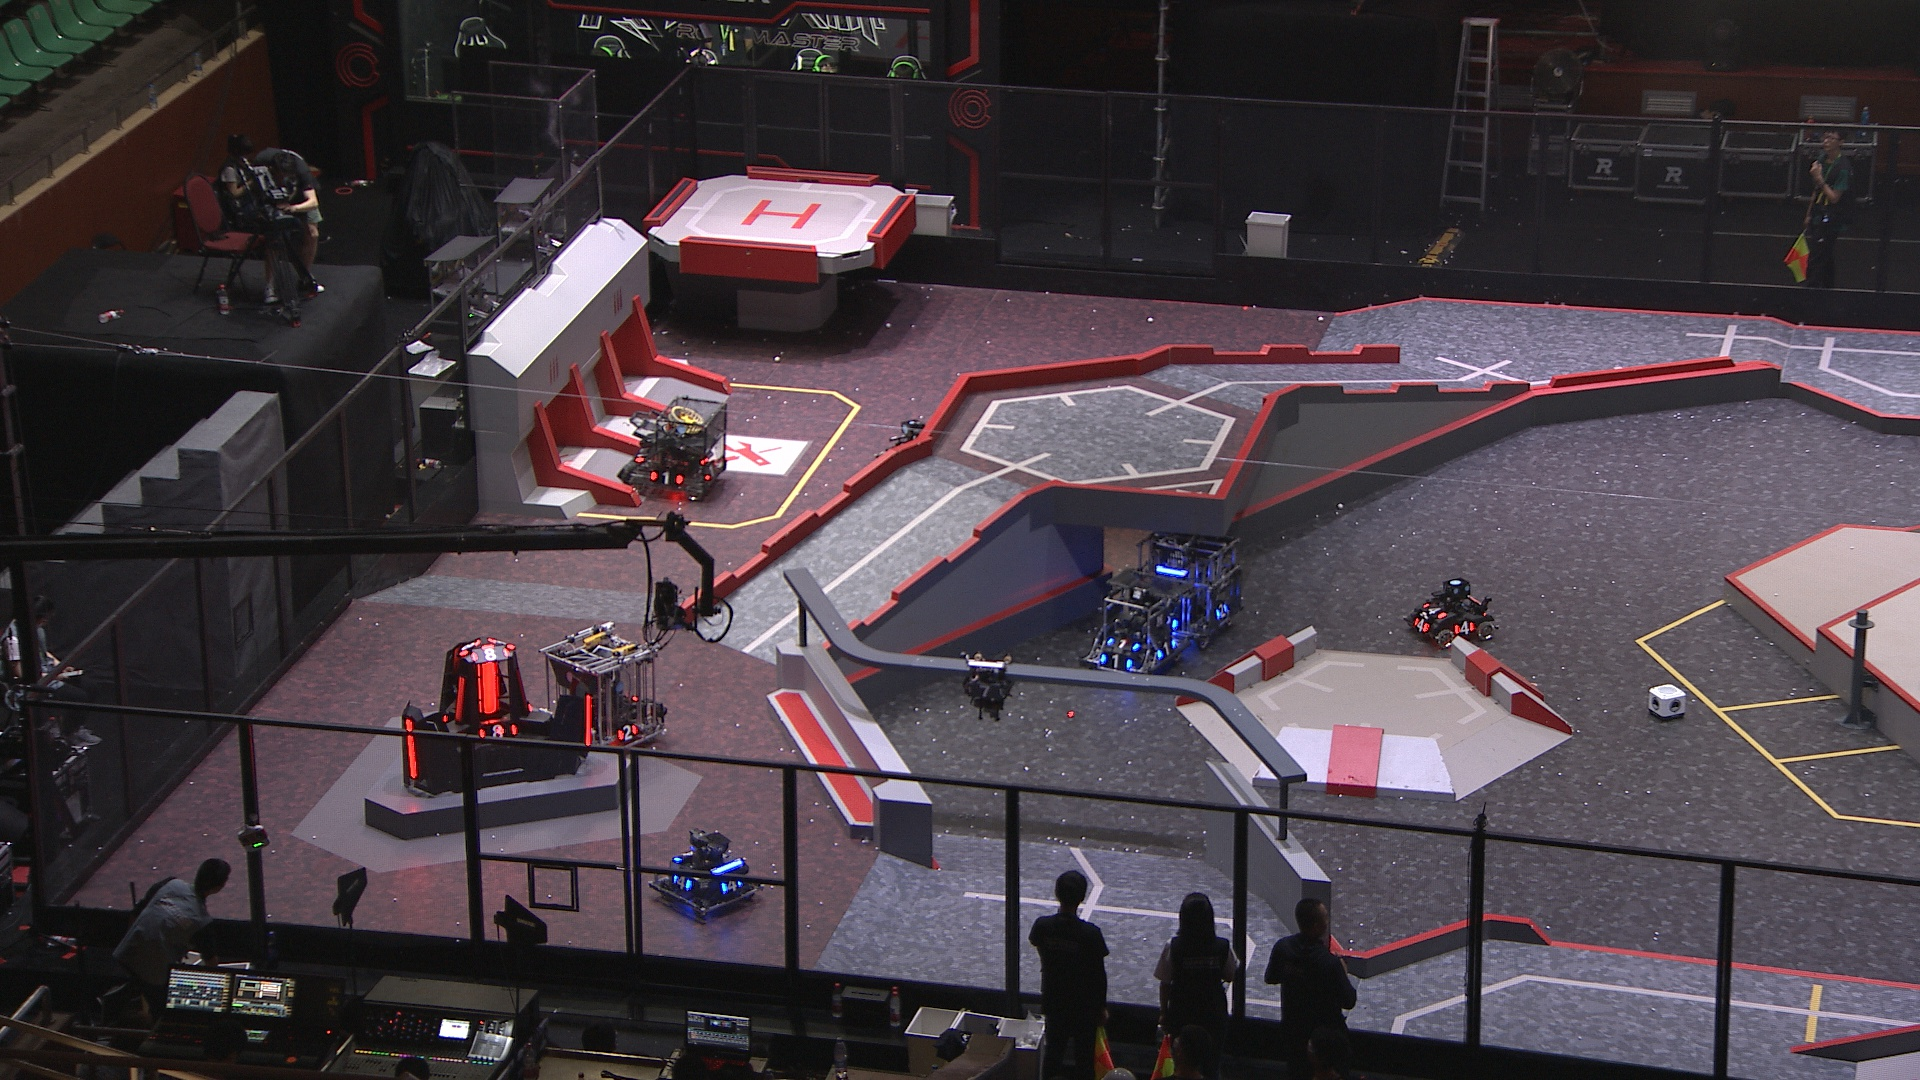armor: (476, 661, 502, 713), (404, 716, 419, 779), (477, 723, 520, 741), (647, 469, 684, 488), (471, 647, 513, 661), (1098, 654, 1135, 669), (613, 723, 640, 742), (968, 684, 1004, 699), (1154, 638, 1178, 659), (1106, 637, 1141, 651), (584, 694, 593, 746), (455, 676, 465, 723), (1420, 603, 1447, 618), (700, 463, 717, 485), (1455, 618, 1477, 636), (671, 874, 694, 891), (1411, 618, 1432, 636), (719, 880, 742, 893), (458, 641, 476, 657), (1163, 616, 1182, 632), (1215, 603, 1232, 618), (674, 851, 695, 862), (636, 451, 646, 462)
base: (398, 636, 597, 799)
car: (539, 621, 666, 756), (1129, 524, 1245, 645), (1081, 567, 1197, 678), (618, 396, 728, 500), (645, 829, 765, 920), (1400, 575, 1495, 647)
watcher: (957, 651, 1017, 723)
